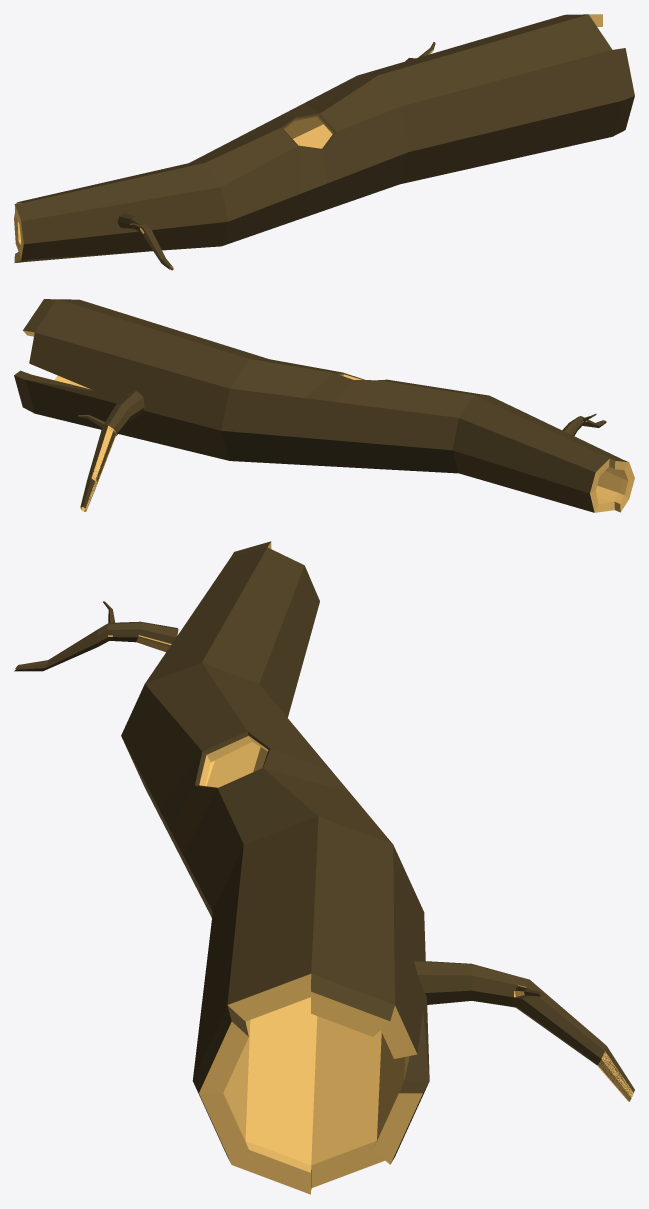
File: kutuk.fbx
The picture shows the model from 3 angles, top to bottom: view 1: azimuth 30°, elevation 25°; view 2: azimuth 150°, elevation 25°; view 3: azimuth 270°, elevation 25°; orthographic projection. The views are drawn at different scales.
Parts seen in each view (by area): view 1: kutuk; view 2: kutuk; view 3: kutuk.
Part boxes in pixels (x1=…): kutuk: x1=14, y1=14, x2=634, y2=270; kutuk: x1=14, y1=299, x2=634, y2=512; kutuk: x1=14, y1=541, x2=634, y2=1194.
Bounding box in the file's own units: 572 × 119 × 290.
